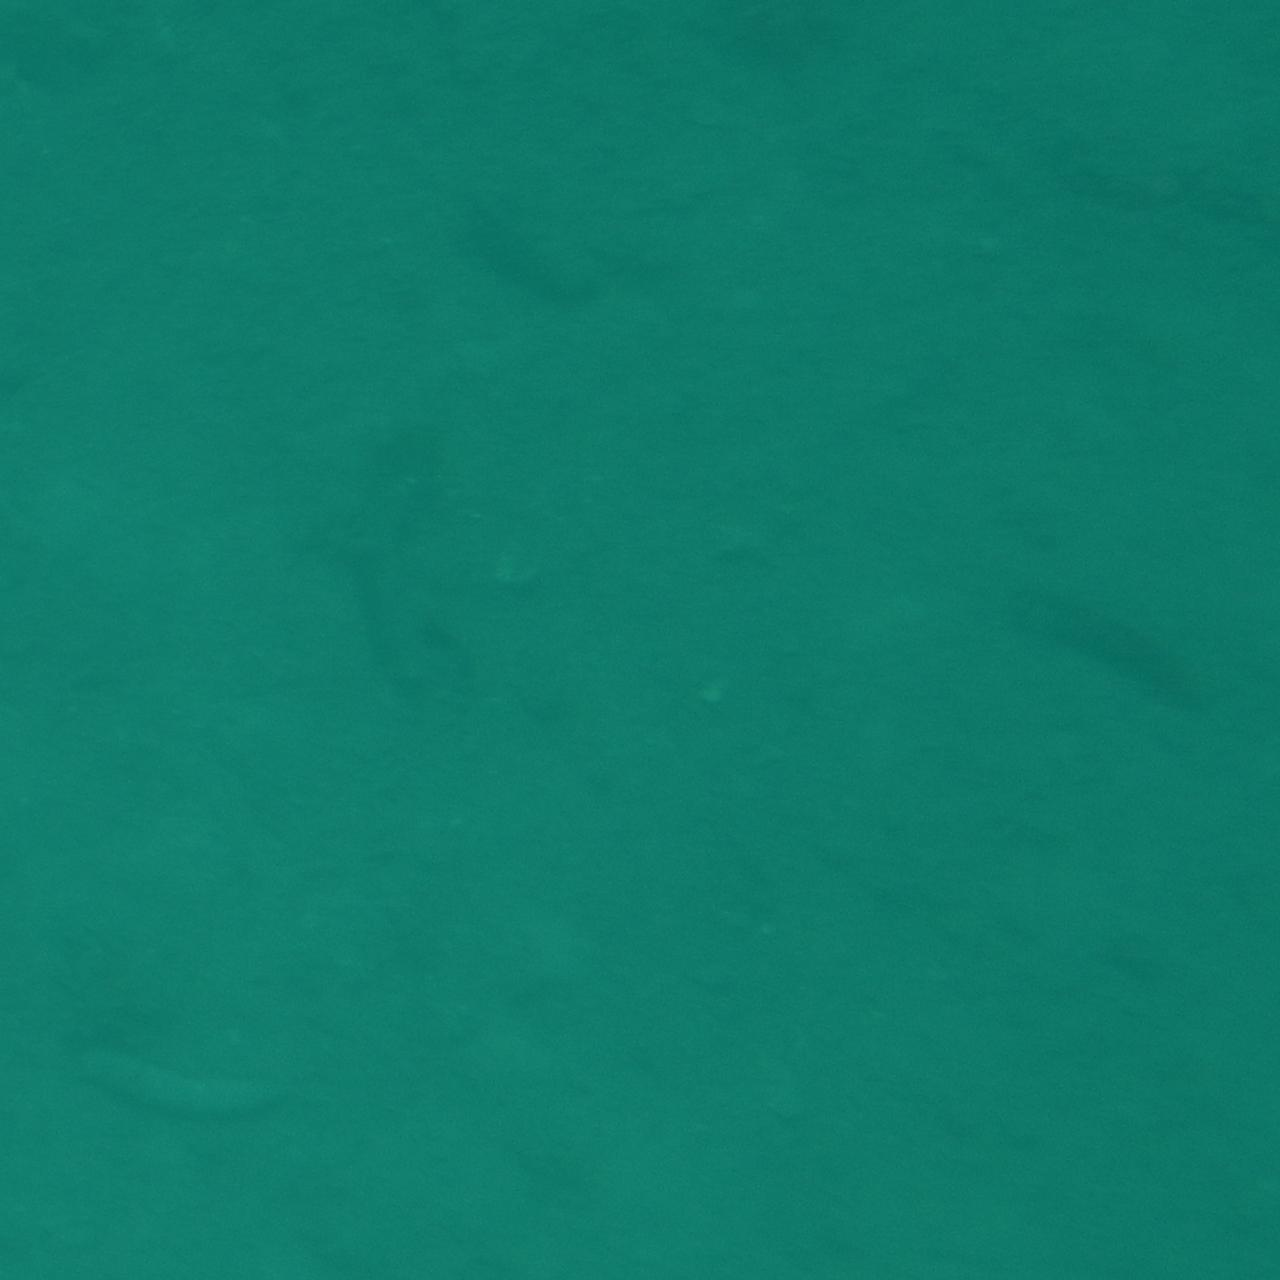Holothuria tubulosa: (972, 552, 1246, 728)
